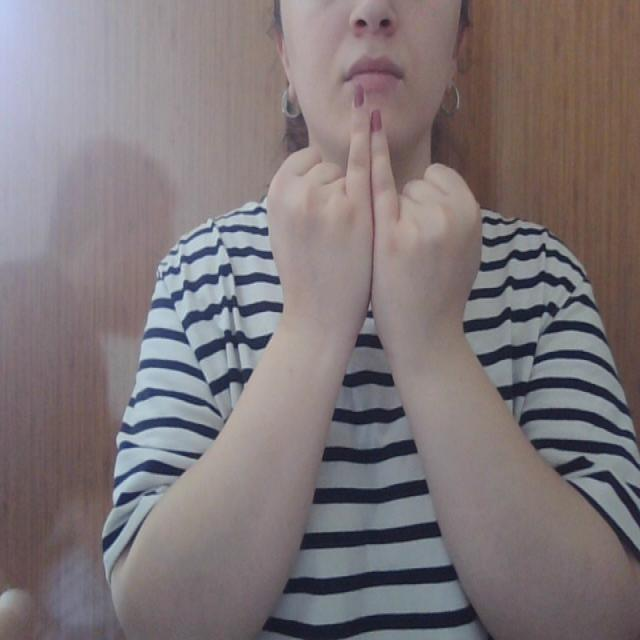Kardes: (262, 80, 488, 359)
